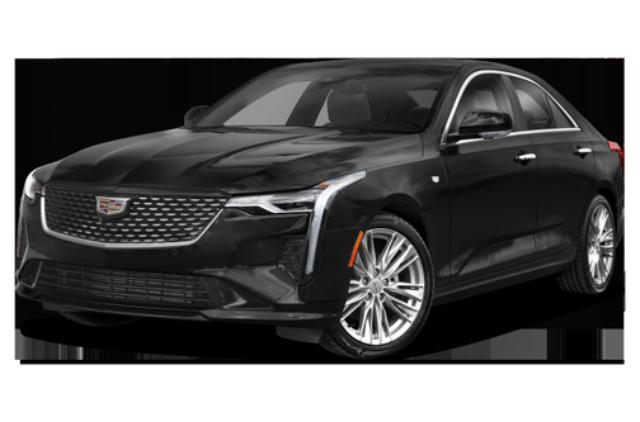cadillac: (14, 57, 624, 362)
